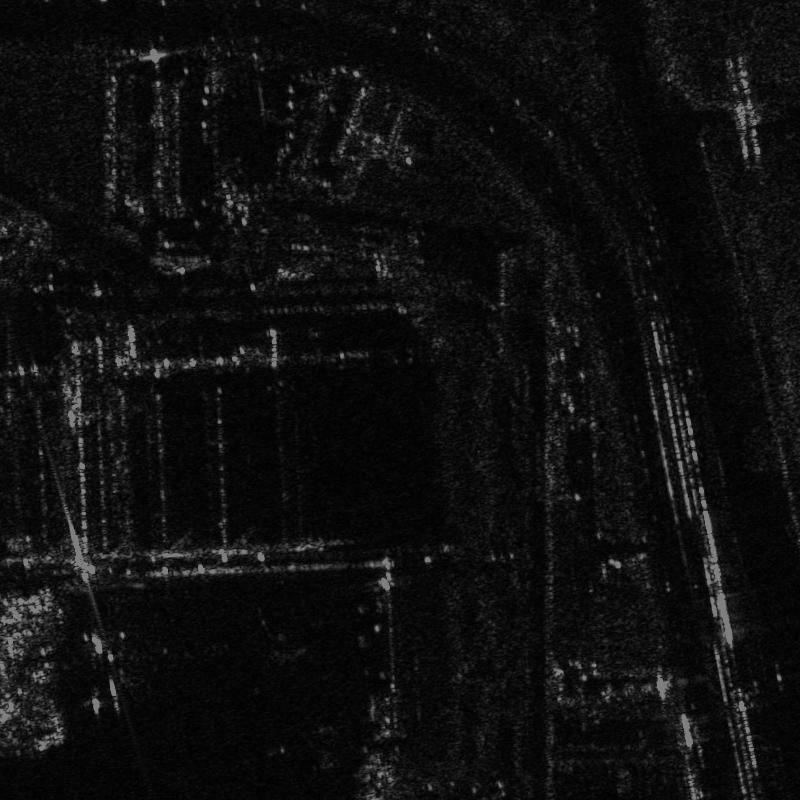Boeing737: (73, 626, 151, 717)
other: (208, 606, 312, 695)
